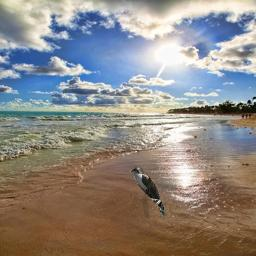Cuckoo: (130, 167, 168, 218)
